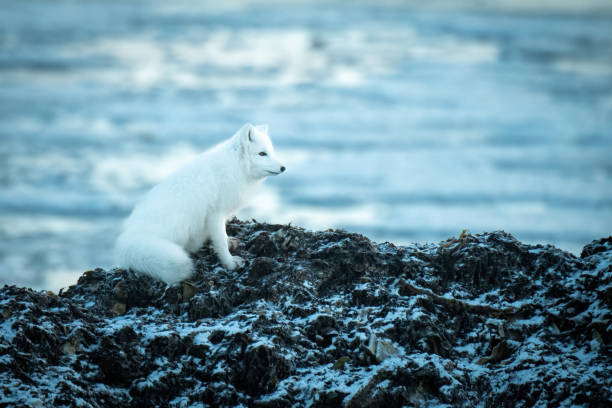arcticfox: (233, 132, 284, 185)
